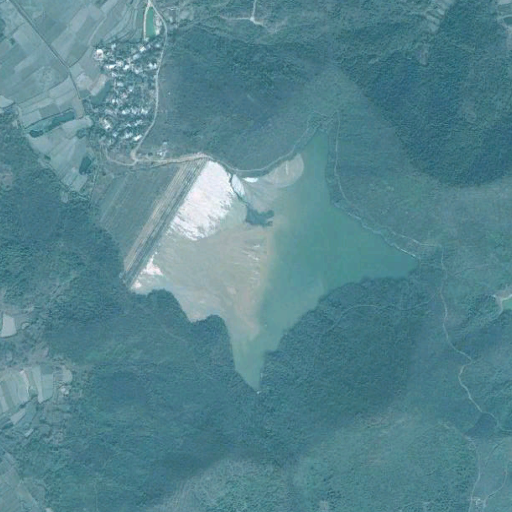tp: (99, 124, 426, 394)
